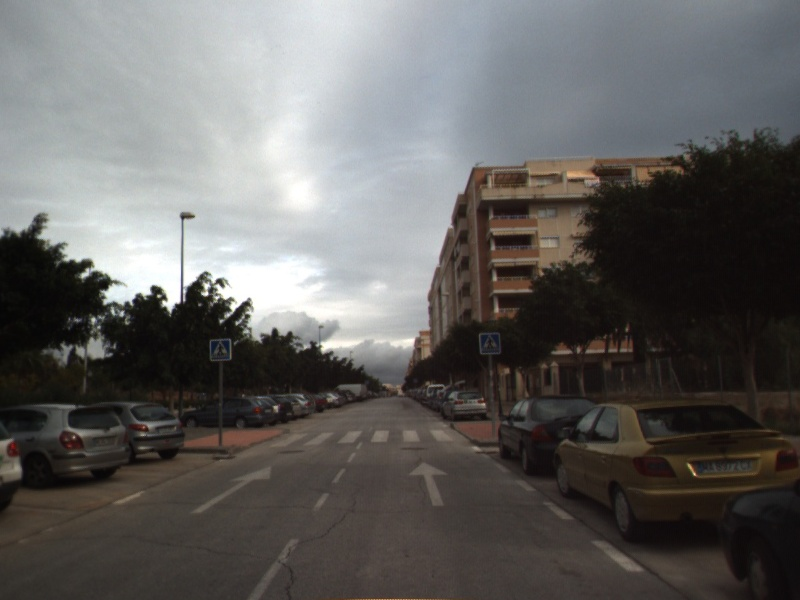STRAIGHT: (189, 464, 273, 515), (407, 460, 450, 508)
